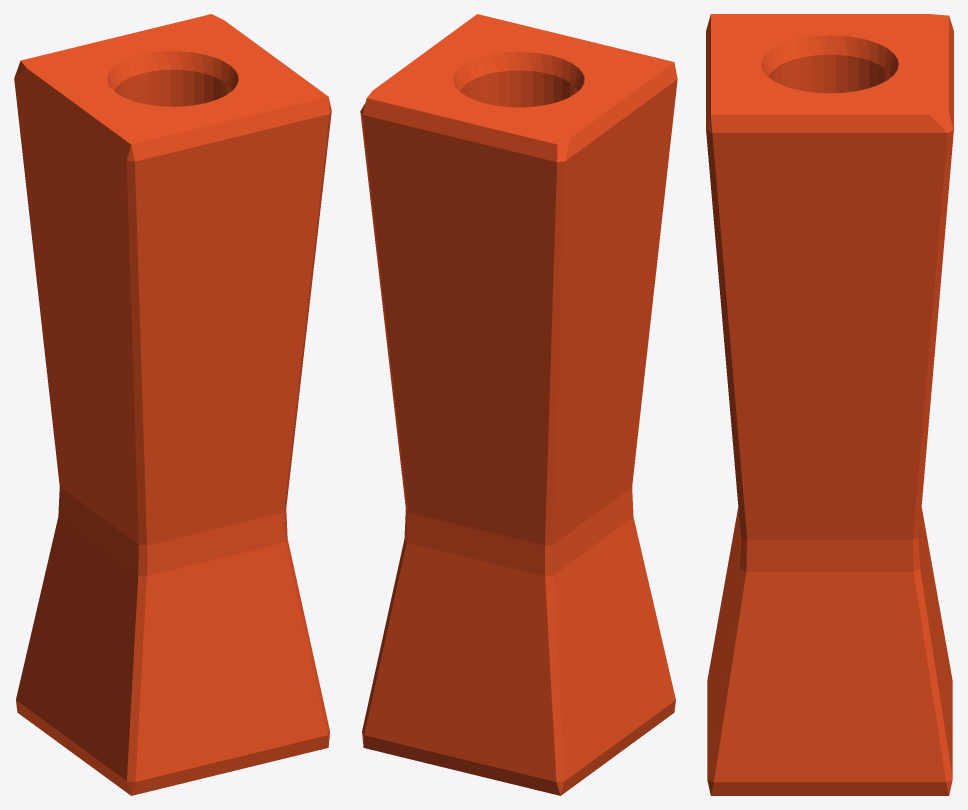
Rendered from token_quad_hole_big.fbx.
3 renders of one model, left to right at view 1: azimuth 30°, elevation 25°; view 2: azimuth 150°, elevation 25°; view 3: azimuth 270°, elevation 25°, orthographic. The views are drawn at different scales.
Parts seen in each view (by area): view 1: token_quad_hole_big_1; view 2: token_quad_hole_big_1; view 3: token_quad_hole_big_1.
Part boxes in pixels (<box>): token_quad_hole_big_1: <box>14,14,331,795</box>; token_quad_hole_big_1: <box>360,14,677,795</box>; token_quad_hole_big_1: <box>706,14,953,795</box>.
Size of the model in its own units: 198 by 600 by 198.
